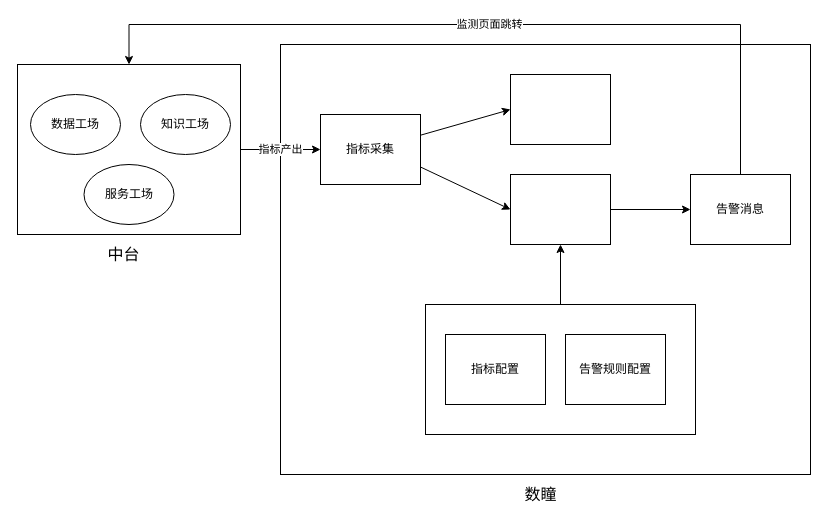
Image size: 828x522. Some labels were removed from this diagram. The box of each missing label's shape, as (x1, y1, x2, y2) in pixels:
业务监测（指标级）: (510, 74, 610, 144)
告警运算: (510, 174, 610, 244)
